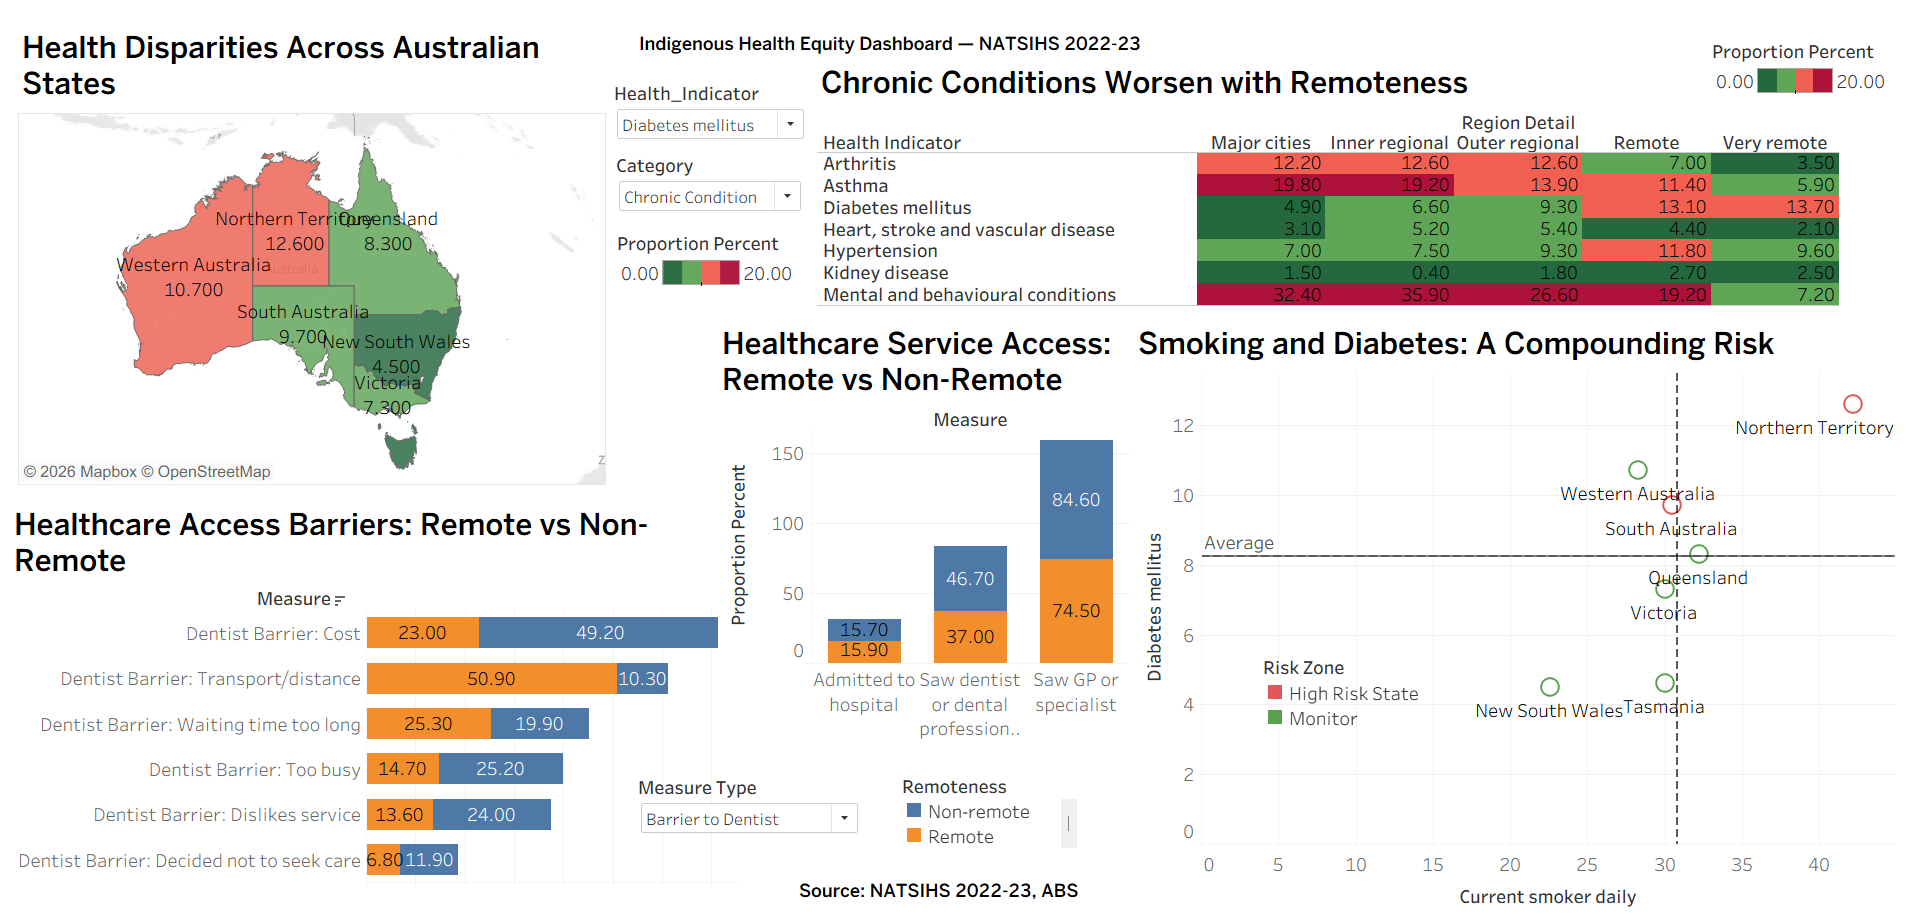

The page's visual inventory and layout, read from the dashboard file:
{"tool":"tableau","page":{"name":"Dashboard 1","canvas":[1900,900],"ordinal":0},"visuals":[{"type":"worksheet","title":"Health Disparities by State","mark":"Multipolygon","box":[17,11,588,459]},{"type":"text","box":[634,14,605,30]},{"type":"legend","title":"Chronic Conditions by Remoteness","param":"[federated.15iic850l71z0v1b8aq2m197m5c6].[sum:Proportion_Percent:qk]","box":[1711,23,178,100]},{"type":"worksheet","title":"Chronic Conditions by Remoteness","mark":"Square","rows":["Health_Indicator"],"cols":["Region_Detail"],"box":[816,46,1023,245]},{"type":"filter","title":"Health Disparities by State","param":"[federated.012aw7g11ukmp71alkn7e1csdqai].[none:Health_Indicator:nk]","box":[613,65,193,62]},{"type":"filter","title":"Health Disparities by State","param":"[federated.012aw7g11ukmp71alkn7e1csdqai].[none:Category:nk]","box":[615,137,188,62]},{"type":"legend","title":"Health Disparities by State","param":"[federated.012aw7g11ukmp71alkn7e1csdqai].[sum:Proportion_Percent:qk]","box":[616,215,180,94]},{"type":"worksheet","title":" Service Access Rates","mark":"Automatic","rows":["Proportion_Percent"],"cols":["Measure"],"box":[717,307,411,444]},{"type":"worksheet","title":"Smoking vs Diabetes by State","mark":"Automatic","rows":["Diabetes mellitus"],"cols":["Current smoker daily"],"box":[1133,307,761,593]},{"type":"worksheet","title":"Healthcare Access Barriers","mark":"Automatic","rows":["Measure"],"cols":["Proportion_Percent"],"box":[9,488,730,390]},{"type":"legend","title":"Smoking vs Diabetes by State","param":"[federated.0oe1baf1f9fd6o1decyht1voq611].[none:Calculation_1150690640224256:nk]","box":[1262,639,164,76]},{"type":"legend","title":"Healthcare Access Barriers","param":"[federated.1tdmps41s3n08510fdtqm1awlz0m].[none:Remoteness:nk]","box":[901,758,177,75]},{"type":"filter","title":"Healthcare Access Barriers","param":"[federated.1tdmps41s3n08510fdtqm1awlz0m].[none:Measure_Type:nk]","box":[637,759,223,62]},{"type":"text","box":[794,861,342,30]}]}

Visuals, with their boxes in screenshot pixels (x1, y1, x2, y2), scaled from the page's 1900x900 canvas onto the 1910x923 screenshot:
"Health Disparities by State" worksheet (Multipolygon marks): <bbox>17, 11, 608, 482</bbox>
text: <bbox>637, 14, 1246, 45</bbox>
"Chronic Conditions by Remoteness" legend: <bbox>1720, 24, 1899, 126</bbox>
"Chronic Conditions by Remoteness" worksheet (Square marks): <bbox>820, 47, 1849, 298</bbox>
"Health Disparities by State" filter: <bbox>616, 67, 810, 130</bbox>
"Health Disparities by State" filter: <bbox>618, 141, 807, 204</bbox>
"Health Disparities by State" legend: <bbox>619, 220, 800, 317</bbox>
" Service Access Rates" worksheet: <bbox>721, 315, 1134, 770</bbox>
"Smoking vs Diabetes by State" worksheet: <bbox>1139, 315, 1904, 922</bbox>
"Healthcare Access Barriers" worksheet: <bbox>9, 500, 743, 900</bbox>
"Smoking vs Diabetes by State" legend: <bbox>1269, 655, 1434, 733</bbox>
"Healthcare Access Barriers" legend: <bbox>906, 777, 1084, 854</bbox>
"Healthcare Access Barriers" filter: <bbox>640, 778, 865, 842</bbox>
text: <bbox>798, 883, 1142, 914</bbox>
